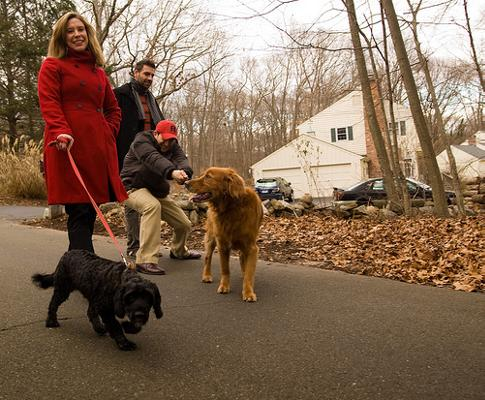person: (39, 13, 123, 288)
